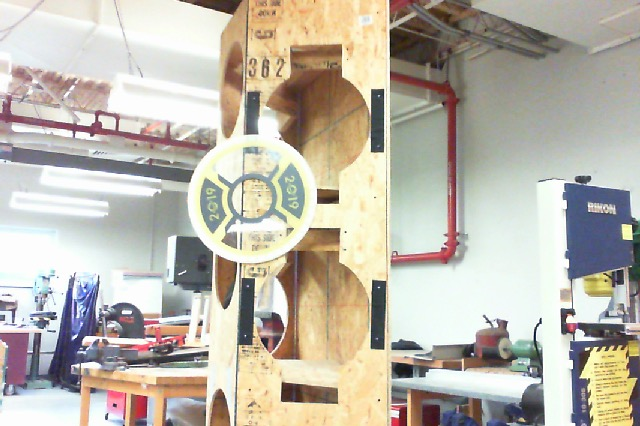Hatch: (187, 133, 317, 263)
